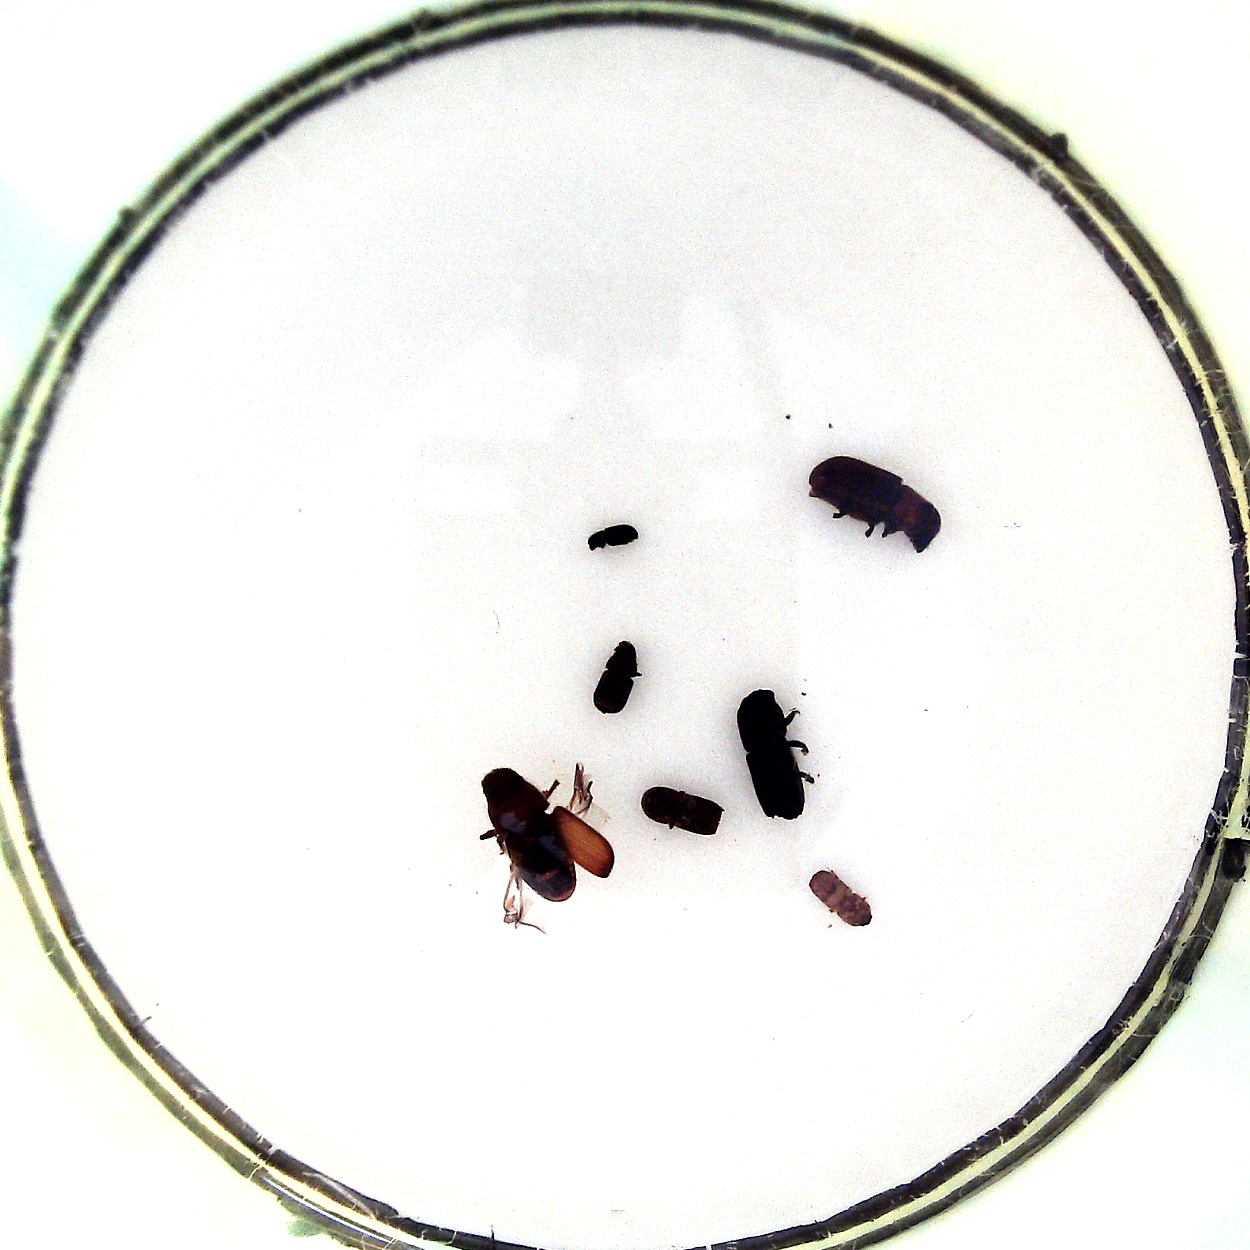Boerner: (734, 690, 818, 824)
Leconte: (478, 762, 614, 937), (801, 457, 944, 559)
Linnaeus: (632, 780, 726, 836)
acuminatus: (800, 864, 875, 929)
armandi: (583, 632, 644, 723)
coleoptera: (583, 516, 644, 564)
